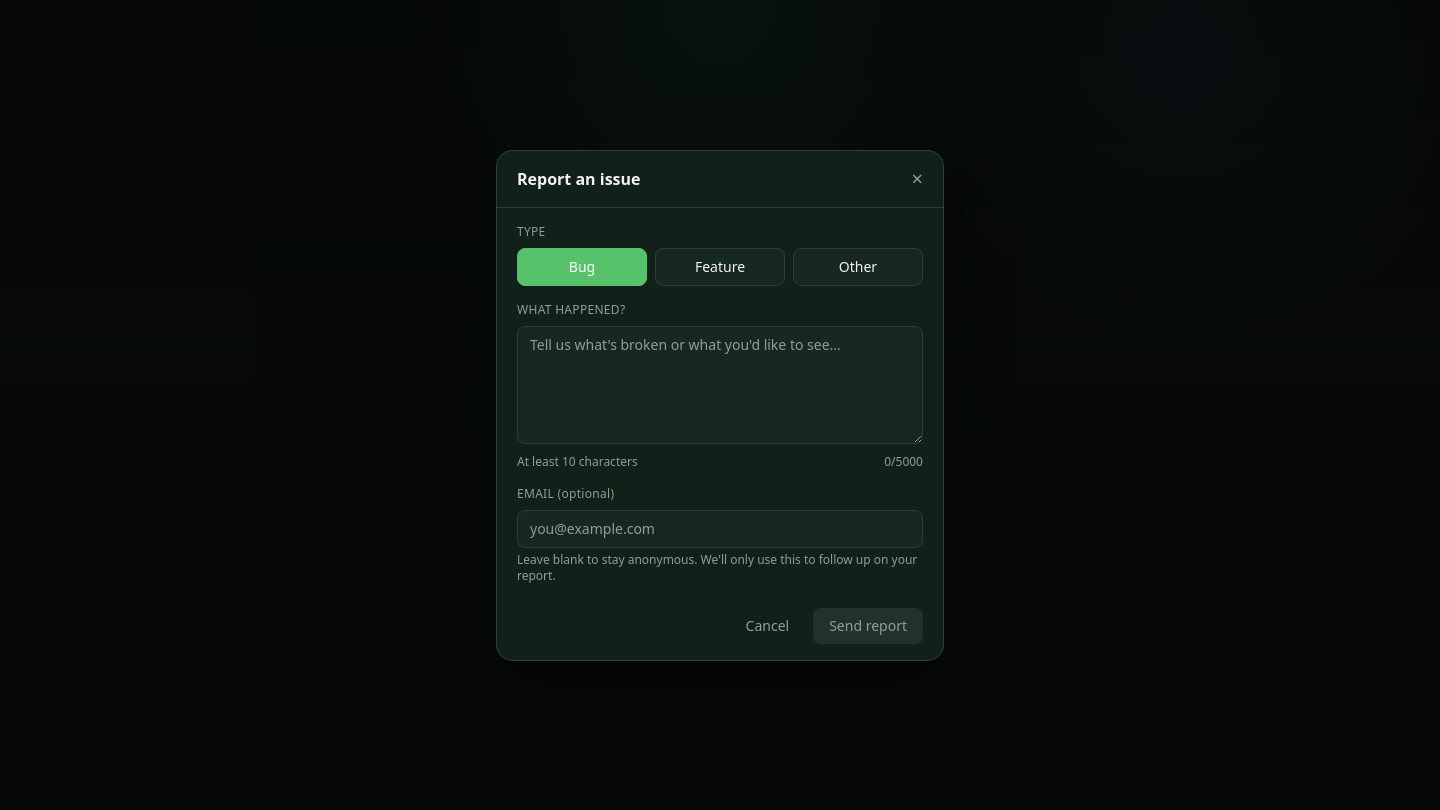
Test: ReportDialog › disables submit until body meets minimum length
In the text box labelled "What happened?": (720,384) [517,326,923,444], type "short"
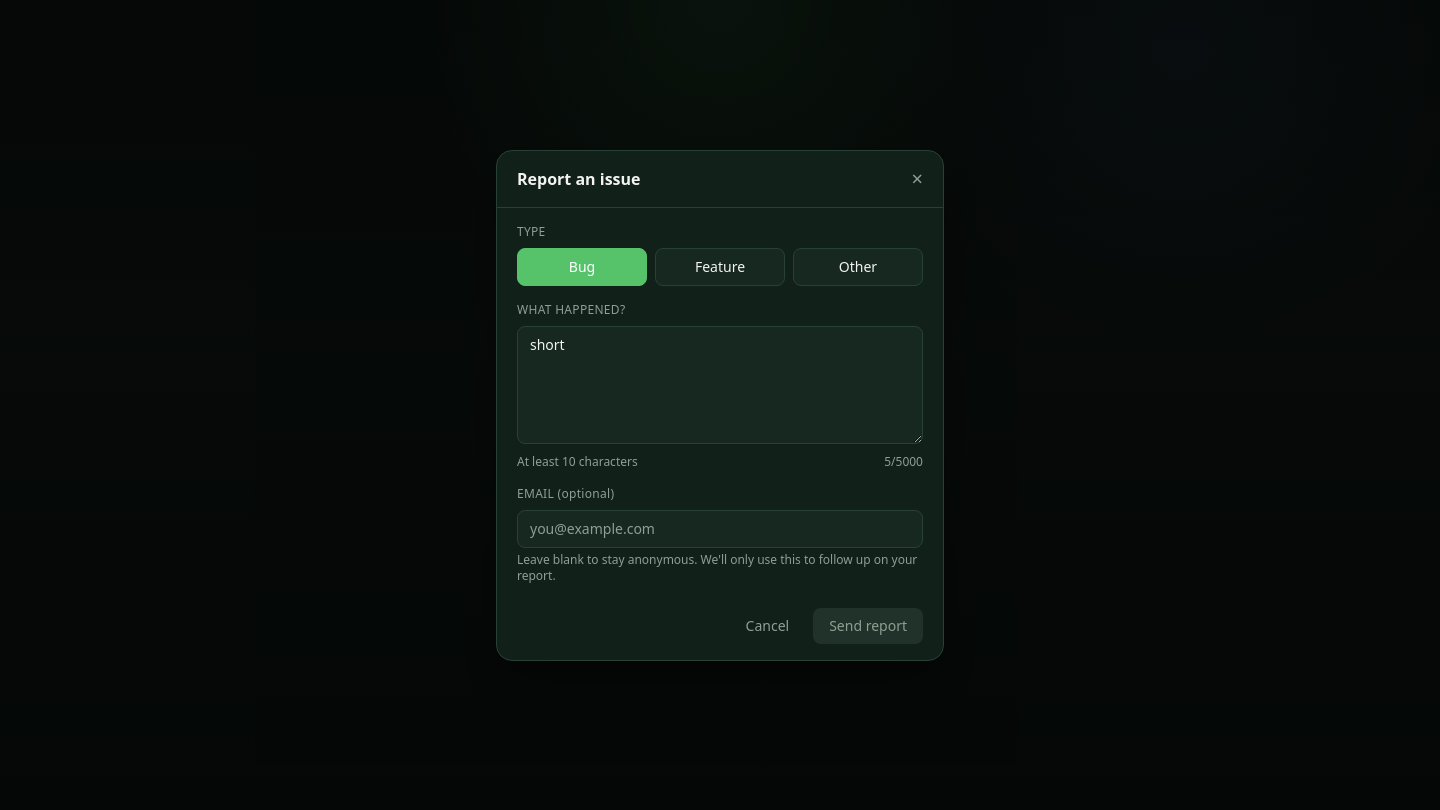
Expected: the button "Send report" is disabled, [813,608,923,644]
Replace the text in the text box labelled "What happened?" with "Something is broken on the analysis screen and it never finishes loading.": (720,384) [517,326,923,444]
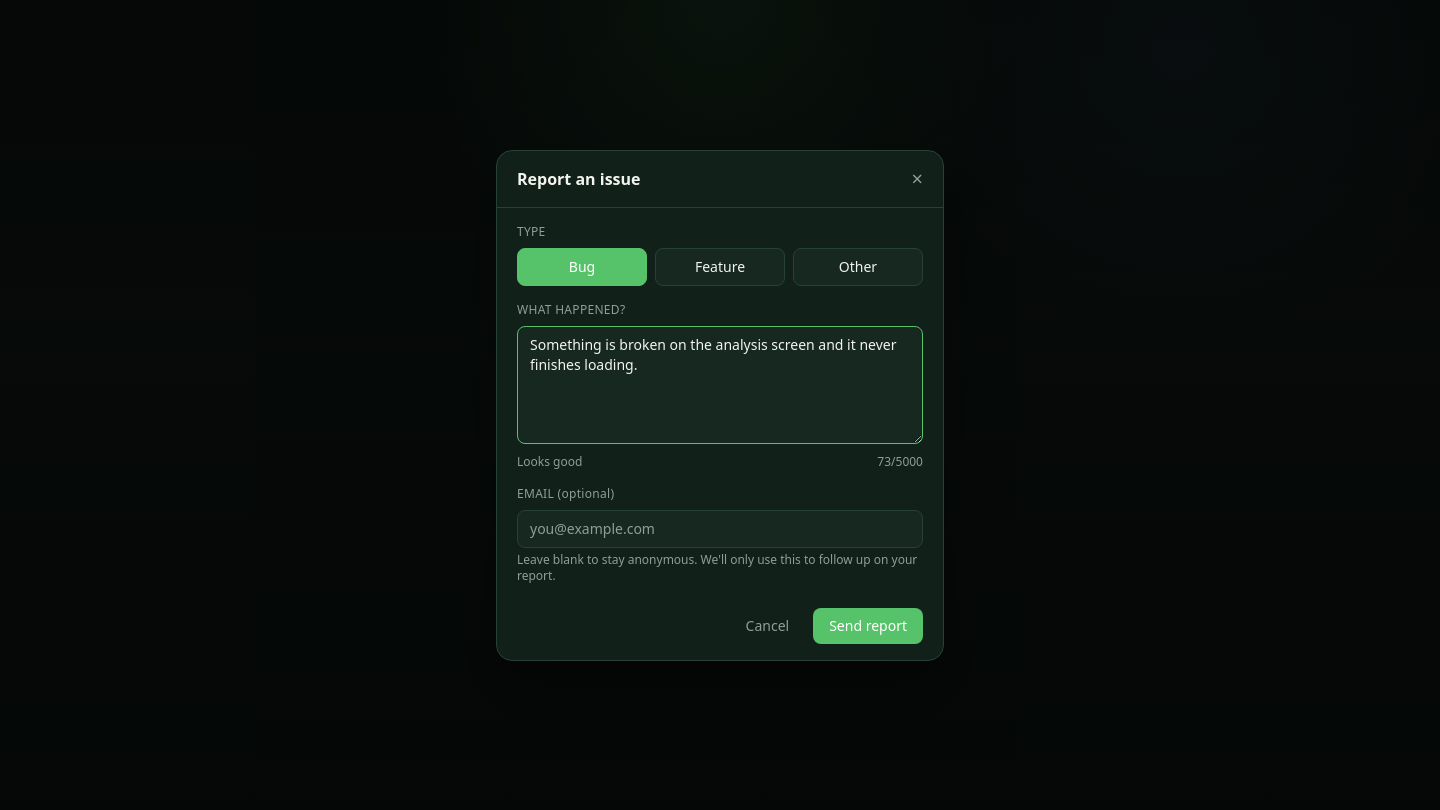
Expected: the button "Send report" is enabled, [813,608,923,644]
